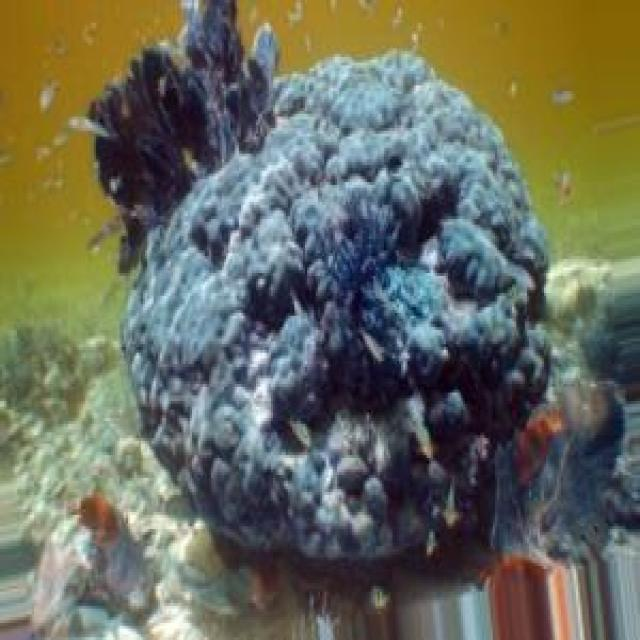Healthy: (71, 1, 628, 576), (1, 337, 140, 640)
